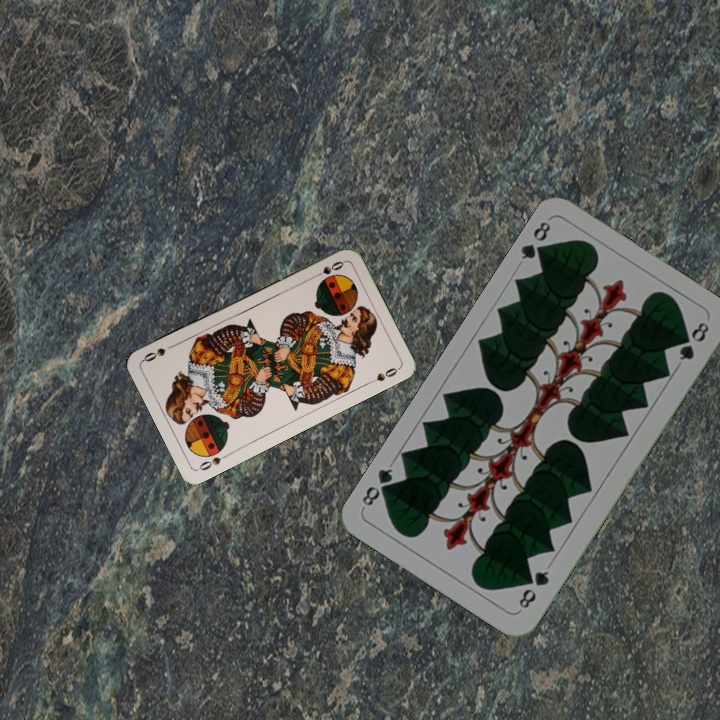G8: (514, 566, 552, 614), (517, 217, 554, 264)
SO: (309, 256, 346, 281), (195, 449, 232, 473)
